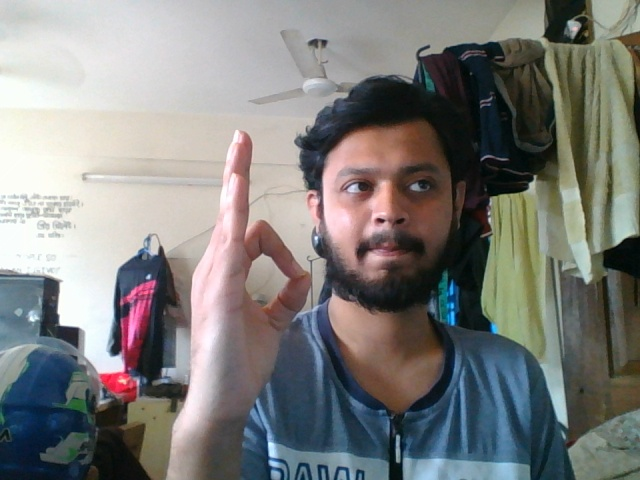ca: (169, 123, 320, 450)
